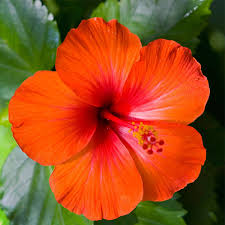hybiscus: (10, 15, 212, 221)
